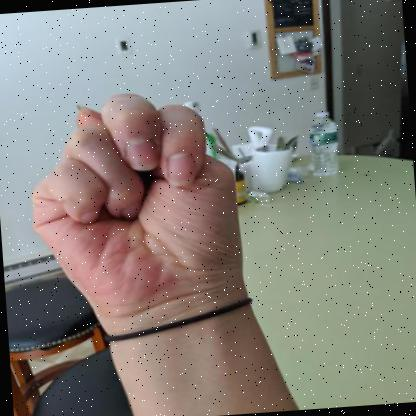N: (31, 93, 253, 328)
